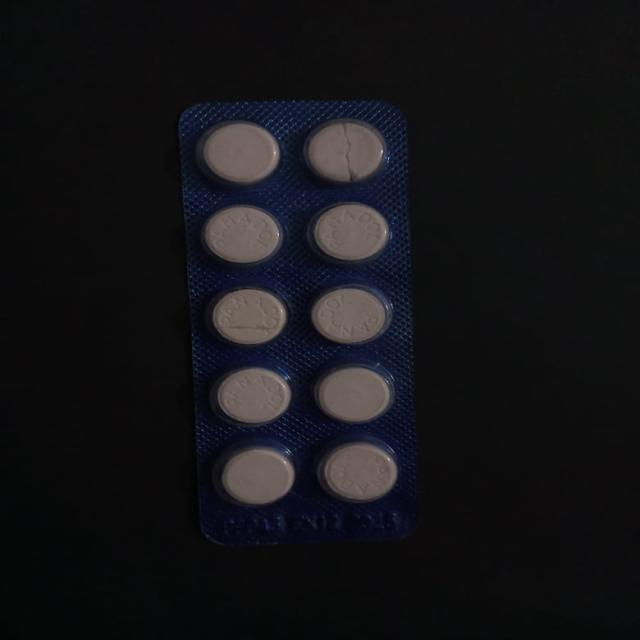defect: (302, 117, 392, 187), (204, 282, 294, 350)
